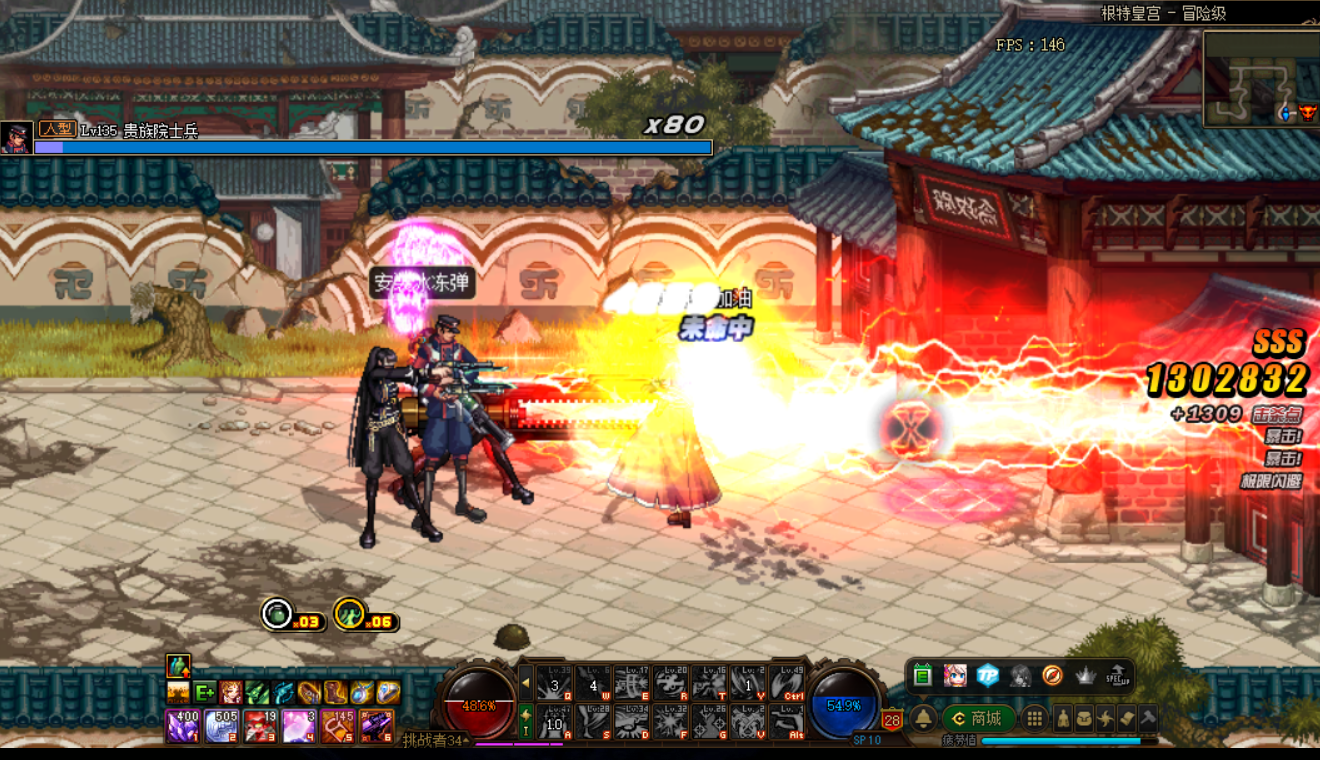monster: (336, 331, 507, 546), (404, 306, 571, 524)
